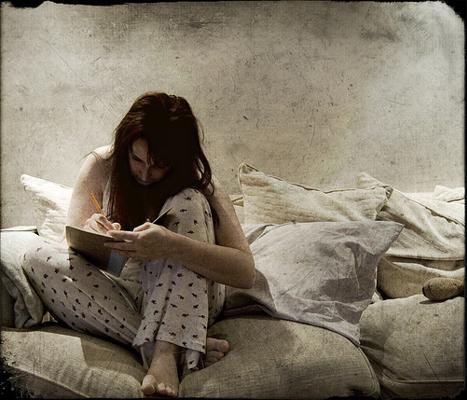person: (20, 94, 257, 396)
